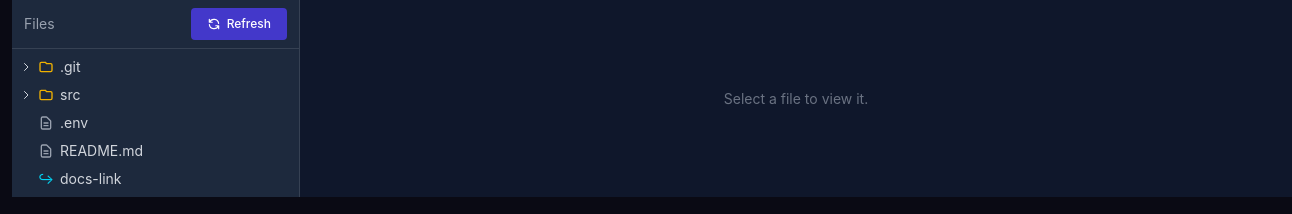
FileViewerWorkerView (desktop) › opens a dot-env file like any other file
The width and height of the screenshot is (1292, 214).
Click the button ".env".
click(46, 123)  # box [12,109,299,137]
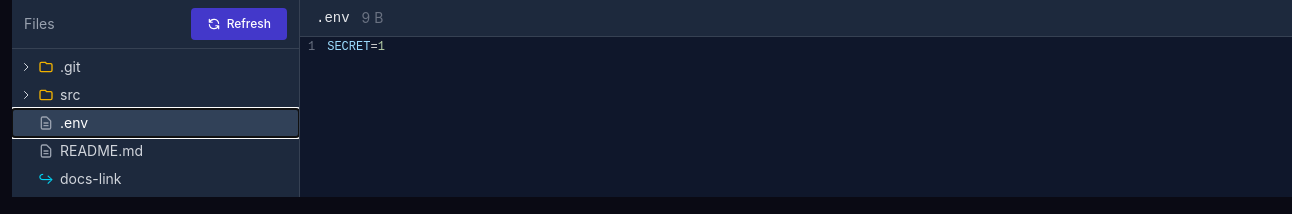
expect the element showing "1 SECRET=1" is shown: met, box [300,37,385,57]
